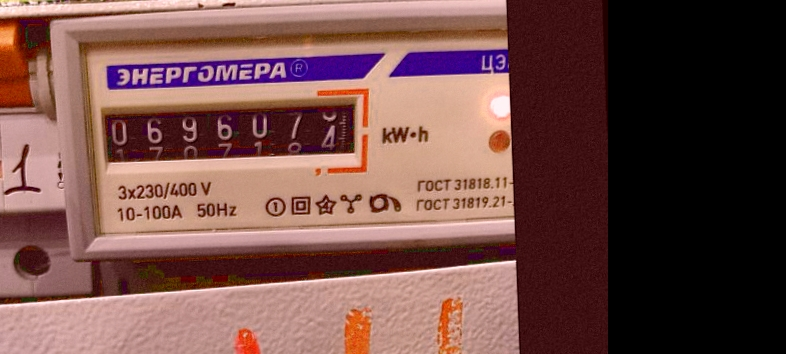0: (108, 117, 130, 147), (250, 110, 270, 140)
4: (317, 123, 337, 153)
6: (214, 112, 235, 144), (144, 115, 164, 145)
7: (285, 108, 304, 140)
9: (179, 114, 200, 144)
screen: (89, 82, 375, 184)
